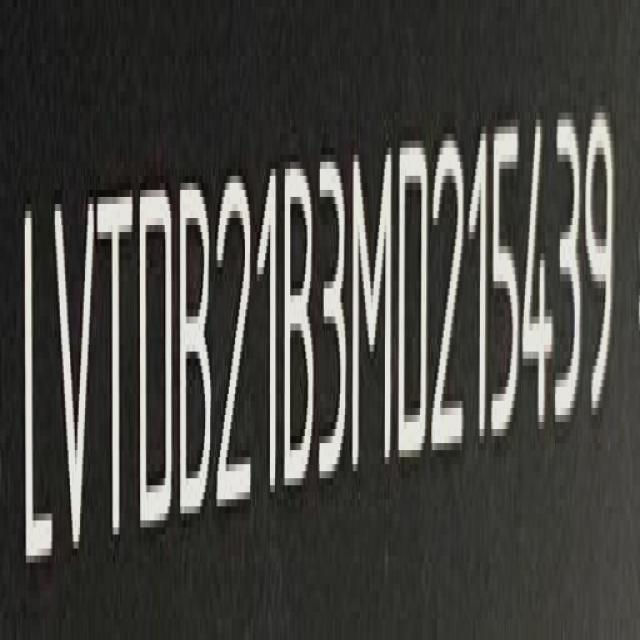1: (259, 175, 282, 513), (469, 123, 488, 462)
2: (217, 176, 256, 524), (432, 133, 469, 466)
3: (317, 151, 349, 493), (552, 111, 582, 441)
4: (522, 121, 553, 450)
5: (492, 114, 524, 447)
9: (588, 114, 620, 434)
B: (179, 182, 217, 534), (284, 161, 319, 503)
D: (136, 183, 175, 545), (397, 136, 432, 472)
L: (16, 190, 52, 586)
M: (351, 143, 394, 480)
T: (102, 184, 134, 559)
V: (51, 188, 96, 578)
